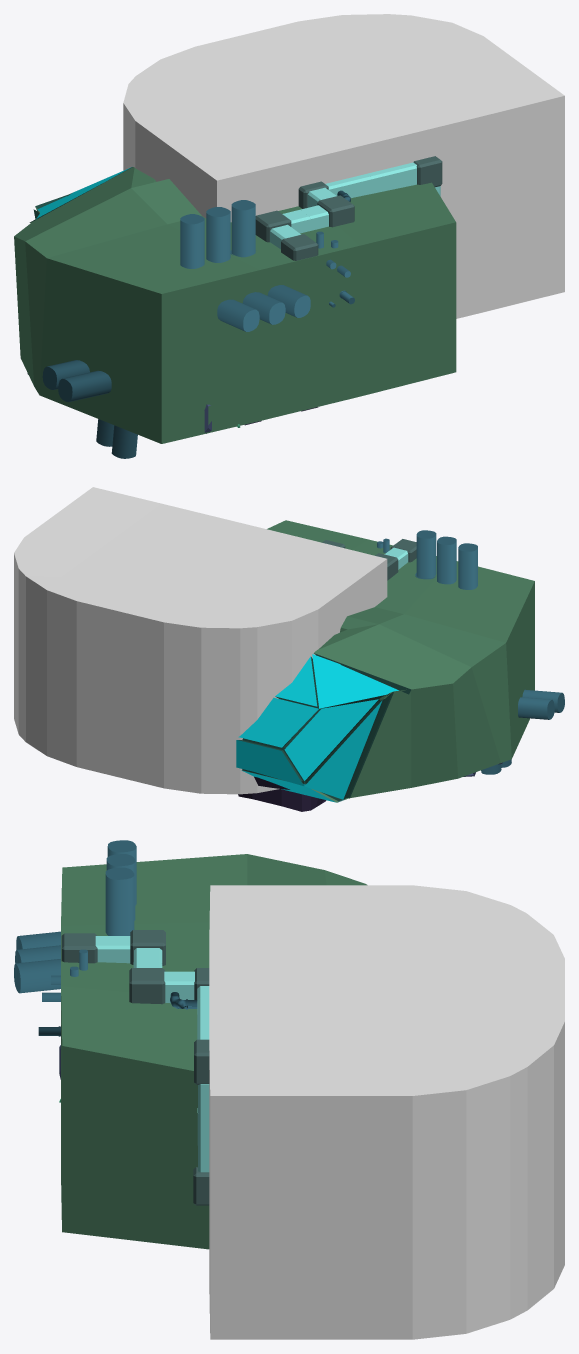
File: controle_room_schale_correct.fbx
3 views of the same model, one above another, from view 1: azimuth 30°, elevation 25°; view 2: azimuth 150°, elevation 25°; view 3: azimuth 270°, elevation 25° (orthographic). The views are drawn at different scales.
Parts seen in each view (by area): view 1: Cube.015, Cube.012, Cube.061, Cube.059, Cube.060, Cube.062, Cube.063, Cube.038, Cube.035, Cube.041, Cube.040, vent main.007; view 2: Cube.012, Cube.015, Cube.019, Cube.059, Cube.060, Cube.063, Cube.061, Cube.062; view 3: Cube.012, Cube.015, Cube.059, Cube.038, Cube.060, Cube.061, Cube.035, vent main.006, vent main.009, Cube.040, Cube.041.
Boxes of the visible parts, left/top/right/bottom form: Cube.015: left=14, top=167, right=456, bottom=443; Cube.012: left=123, top=14, right=564, bottom=318; Cube.061: left=180, top=214, right=259, bottom=331; Cube.059: left=230, top=200, right=310, bottom=317; Cube.060: left=206, top=207, right=285, bottom=324; Cube.062: left=58, top=370, right=137, bottom=458; Cube.063: left=42, top=360, right=114, bottom=446; Cube.038: left=317, top=195, right=354, bottom=227; Cube.035: left=281, top=234, right=318, bottom=260; Cube.041: left=413, top=156, right=442, bottom=187; Cube.040: left=255, top=210, right=291, bottom=242; vent main.007: left=367, top=168, right=395, bottom=193; Cube.012: left=14, top=487, right=387, bottom=794; Cube.015: left=236, top=520, right=534, bottom=802; Cube.019: left=238, top=789, right=326, bottom=811; Cube.059: left=415, top=530, right=436, bottom=579; Cube.060: left=437, top=536, right=456, bottom=584; Cube.063: left=481, top=697, right=554, bottom=774; Cube.061: left=458, top=543, right=477, bottom=589; Cube.062: left=501, top=689, right=564, bottom=767; Cube.012: left=209, top=885, right=564, bottom=1339; Cube.015: left=61, top=854, right=367, bottom=1249; Cube.059: left=14, top=867, right=134, bottom=993; Cube.038: left=129, top=968, right=165, bottom=1004; Cube.060: left=15, top=854, right=135, bottom=963; Cube.061: left=16, top=840, right=136, bottom=949; Cube.035: left=61, top=933, right=97, bottom=963; vent main.006: left=95, top=936, right=130, bottom=963; vent main.009: left=164, top=971, right=194, bottom=1003; Cube.040: left=130, top=930, right=165, bottom=965; Cube.041: left=194, top=1039, right=209, bottom=1084.
Bounding box in the file's own units: 5349 × 2274 × 3879.
